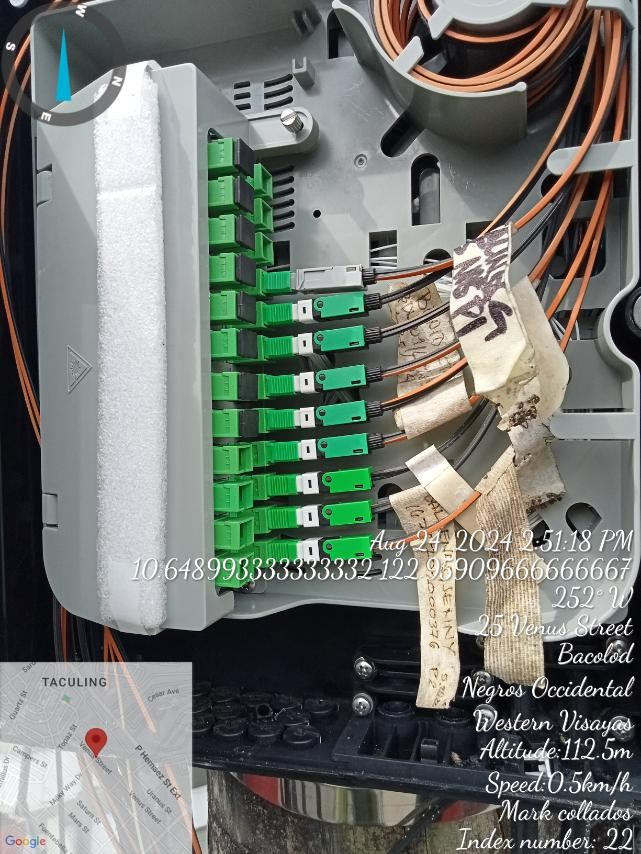no dust cap: (238, 518, 254, 549), (240, 553, 255, 586), (236, 446, 253, 475), (260, 163, 274, 198), (238, 481, 253, 510), (262, 199, 274, 231), (262, 234, 273, 265)
occupied: (263, 289, 384, 328), (264, 322, 382, 360), (265, 396, 386, 433), (266, 360, 383, 398), (263, 261, 378, 295), (267, 429, 382, 462), (266, 466, 379, 498), (268, 498, 377, 530), (271, 534, 376, 562)
vacant: (234, 137, 256, 180), (236, 176, 256, 217), (236, 253, 256, 287), (236, 373, 259, 402), (237, 292, 257, 325), (237, 329, 258, 360), (238, 215, 256, 251), (239, 409, 259, 438)
